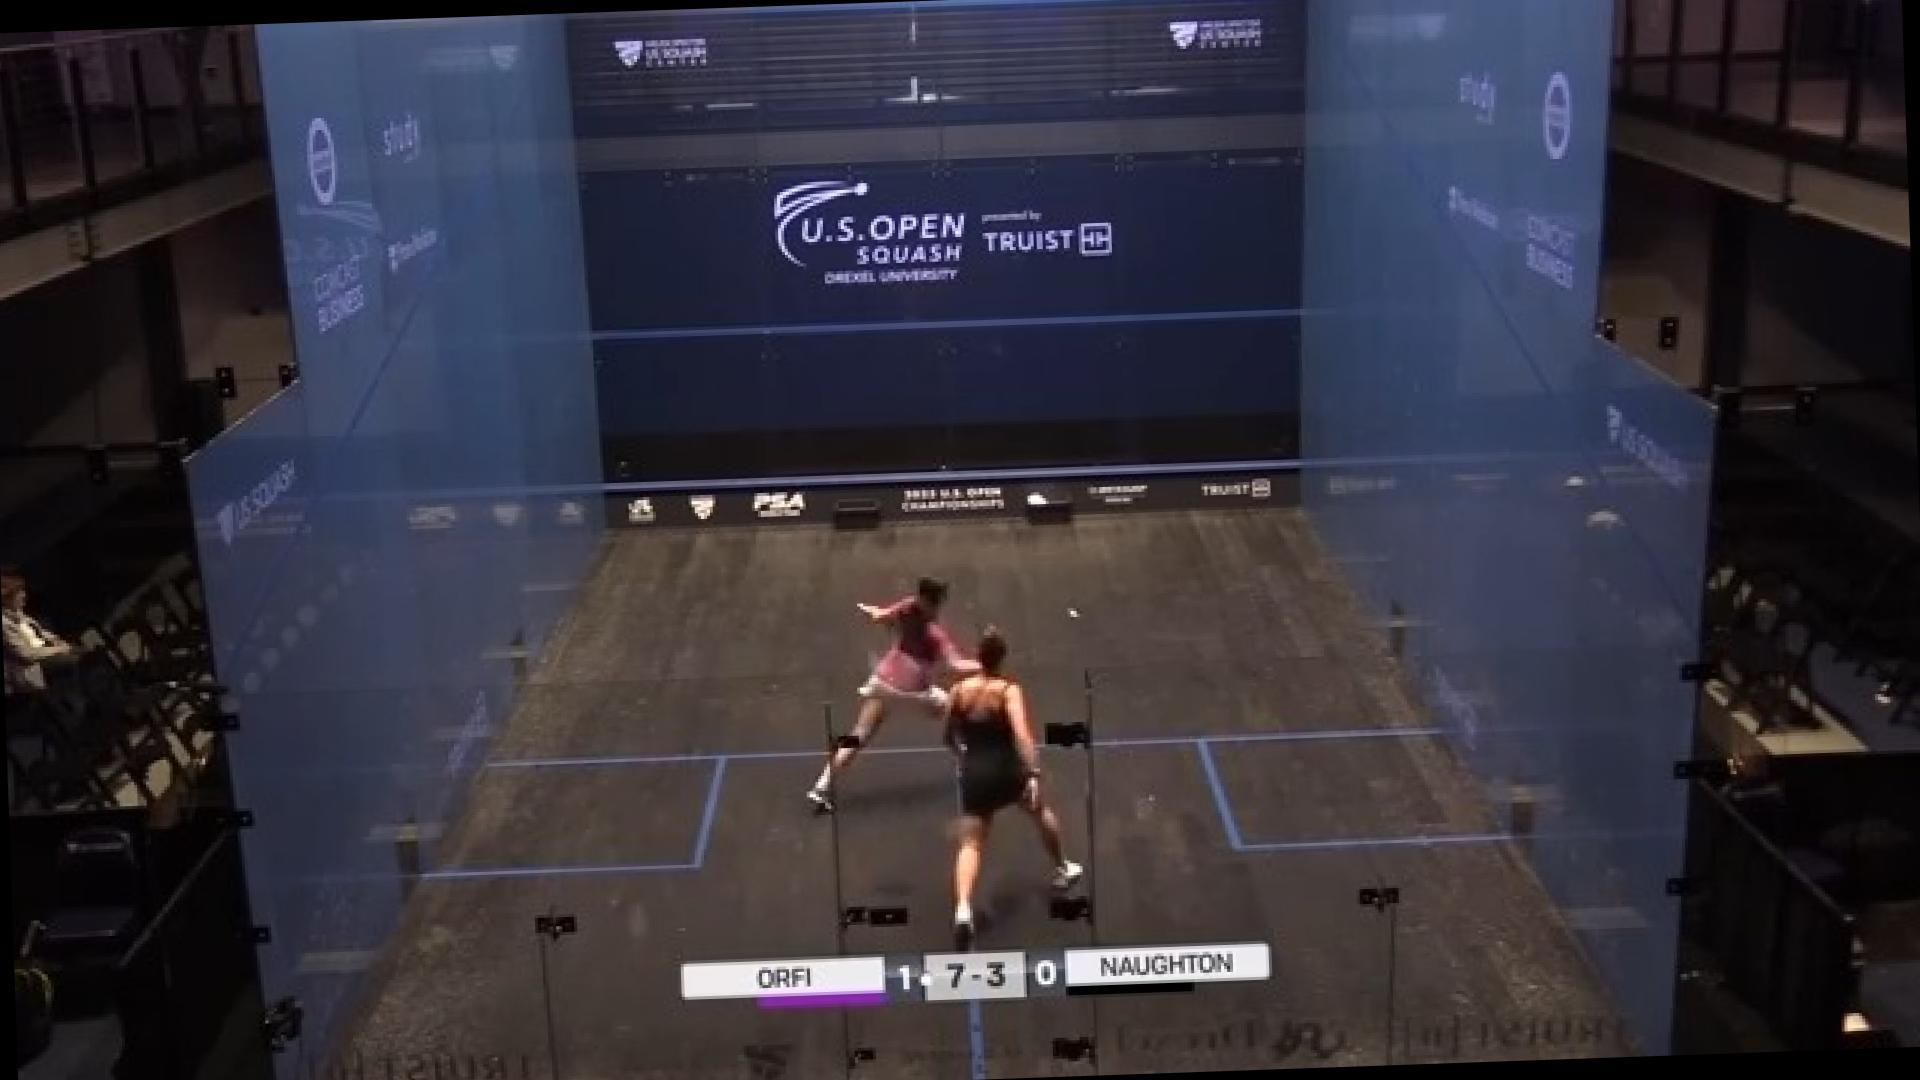Squash-Ball: (1054, 593, 1091, 634)
